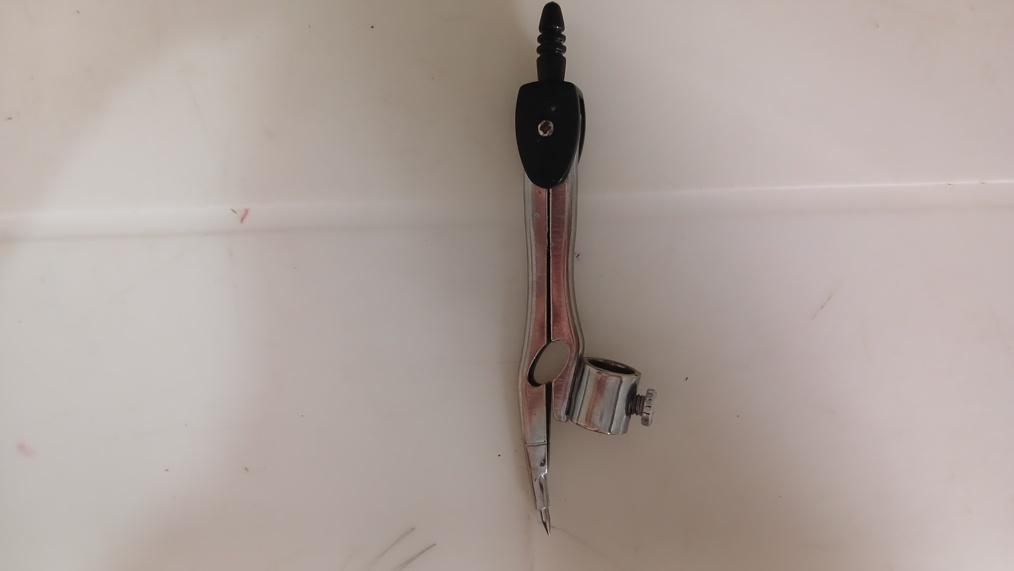Compass: (516, 1, 657, 532)
